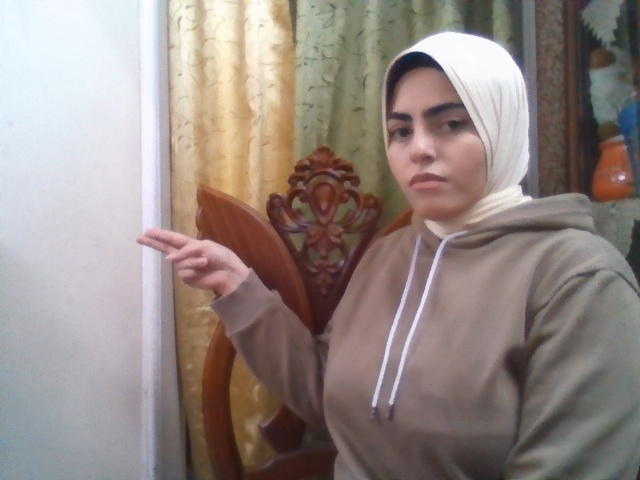H: (135, 226, 243, 291)
